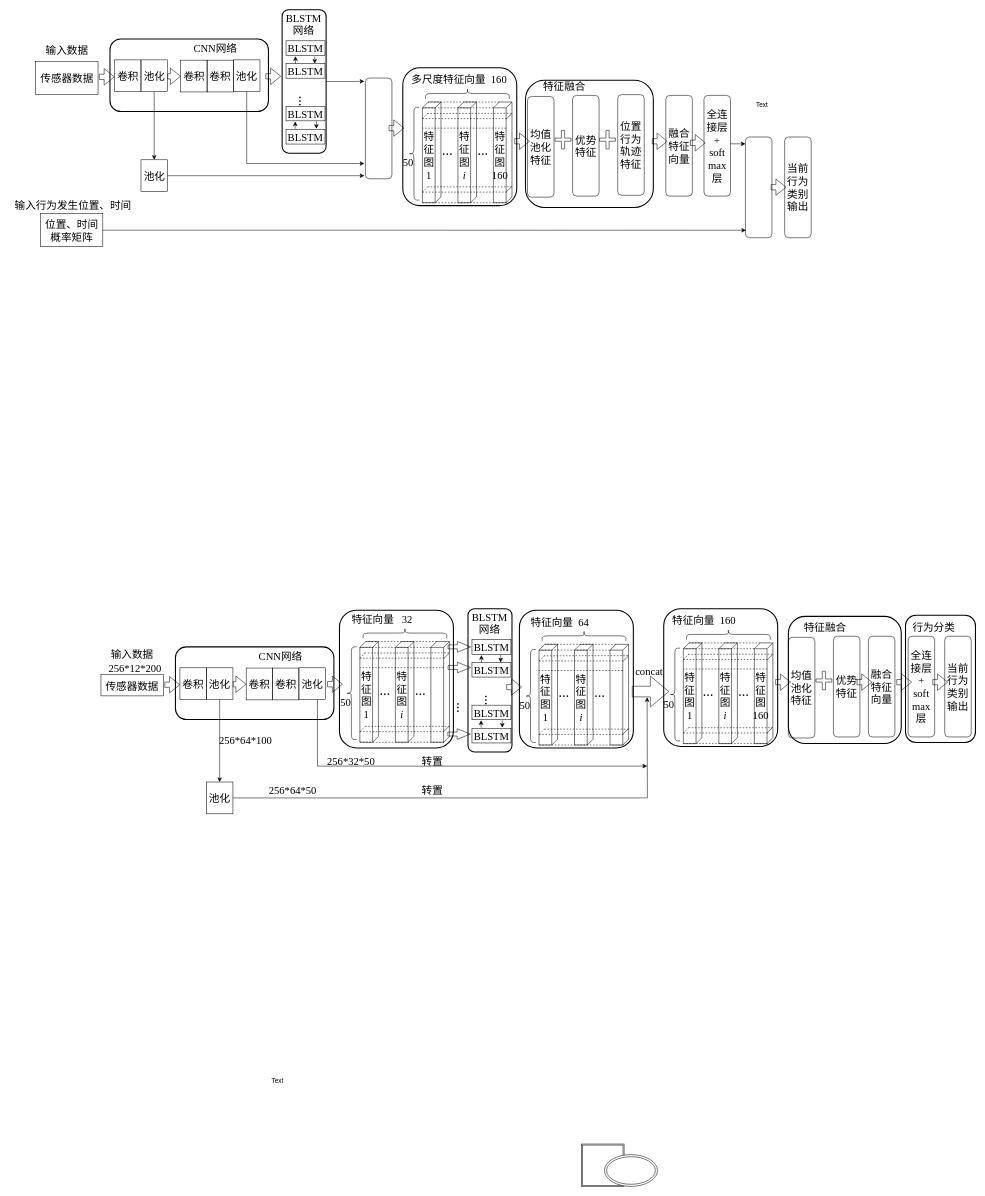
Image size: 985x1196. Some labels were removed from this diagram. The shapes that lost their labels are listed below. From the top down, each one's box as (x1, y1, x2, y2) in pixels, then its label:
(365, 78, 392, 179): 多尺度特征结合
(745, 136, 772, 238): 贝叶斯定理
(430, 641, 449, 742): 特征图 32
(610, 644, 629, 745): 特征图 64
